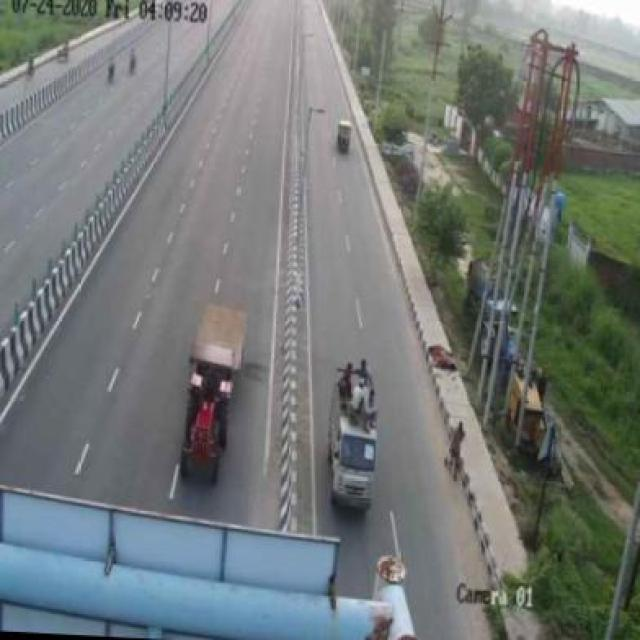car: (322, 376, 395, 510)
